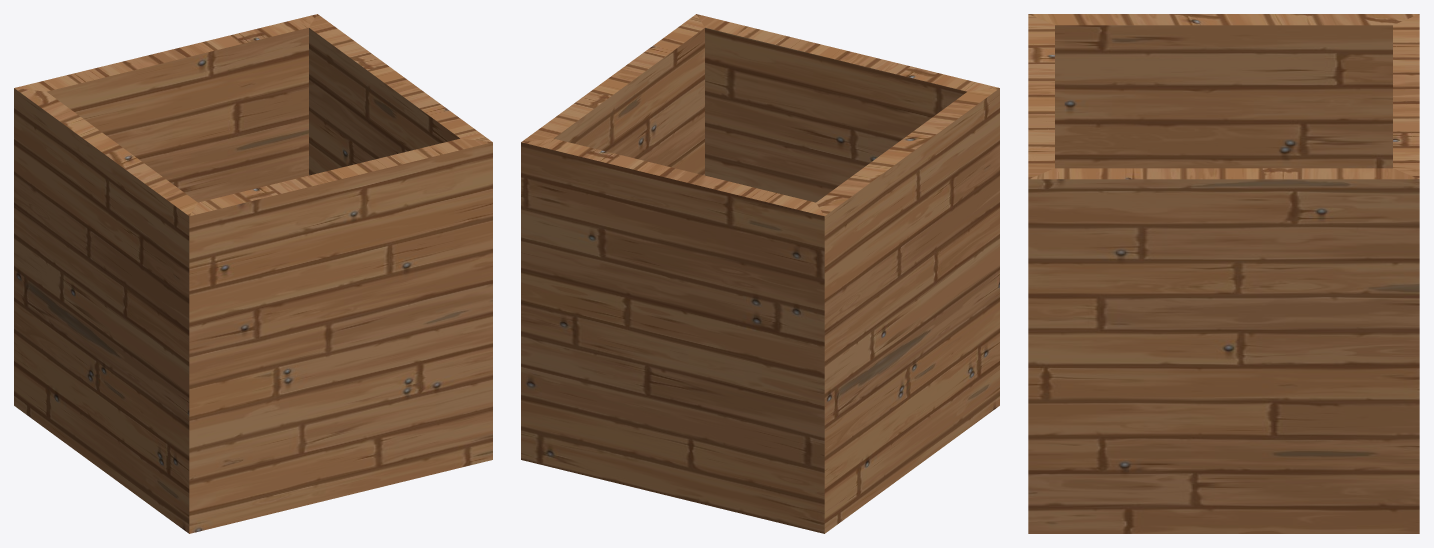
The model's file is caisse2.fbx.
3 renders of one model, left to right at view 1: azimuth 30°, elevation 25°; view 2: azimuth 150°, elevation 25°; view 3: azimuth 270°, elevation 25°, orthographic. The views are drawn at different scales.
Parts seen in each view (by area): view 1: Cube; view 2: Cube; view 3: Cube.
Part boxes in pixels (x1=…): Cube: x1=14, y1=14, x2=492, y2=533; Cube: x1=521, y1=14, x2=999, y2=533; Cube: x1=1028, y1=14, x2=1419, y2=533.
Bounding box in the file's own units: 200 × 200 × 200.
1 material, 1 textured.
